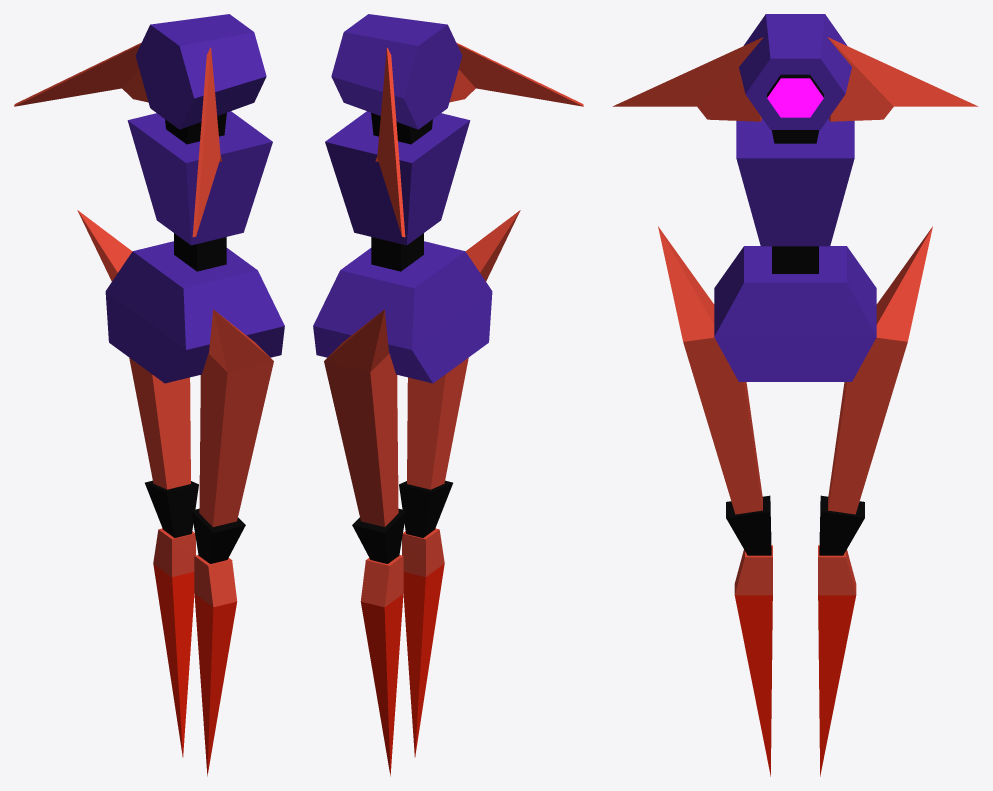
The model's file is Robot.fbx.
3 renders of one model, left to right at view 1: azimuth 30°, elevation 25°; view 2: azimuth 150°, elevation 25°; view 3: azimuth 270°, elevation 25°, orthographic.
Visible parts, largest first — view 1: Cube.003, Cube.001, Cube.010, Cylinder.060, Robot, Cube.011; view 2: Cube.003, Cube.001, Cube.010, Cylinder.060, Robot, Cube.011; view 3: Cube.003, Cube.001, Cube.010, Cylinder.060, Robot, Cube.011.
Part boxes in pixels (left/top/right/bottom): Cube.003: left=77, top=210, right=273, bottom=776; Cube.001: left=105, top=241, right=284, bottom=383; Cube.010: left=127, top=111, right=272, bottom=271; Cylinder.060: left=135, top=14, right=266, bottom=129; Robot: left=14, top=42, right=222, bottom=237; Cube.011: left=165, top=112, right=226, bottom=144; Cube.003: left=324, top=210, right=520, bottom=776; Cube.001: left=313, top=241, right=492, bottom=383; Cube.010: left=325, top=111, right=470, bottom=271; Cylinder.060: left=331, top=14, right=462, bottom=129; Robot: left=375, top=42, right=583, bottom=237; Cube.011: left=371, top=112, right=432, bottom=144; Cube.003: left=658, top=226, right=932, bottom=776; Cube.001: left=714, top=246, right=876, bottom=381; Cube.010: left=736, top=118, right=854, bottom=273; Cylinder.060: left=739, top=14, right=851, bottom=129; Robot: left=612, top=37, right=978, bottom=121; Cube.011: left=771, top=130, right=819, bottom=143.
Size of the model in its own units: 351 by 1652 by 734.
